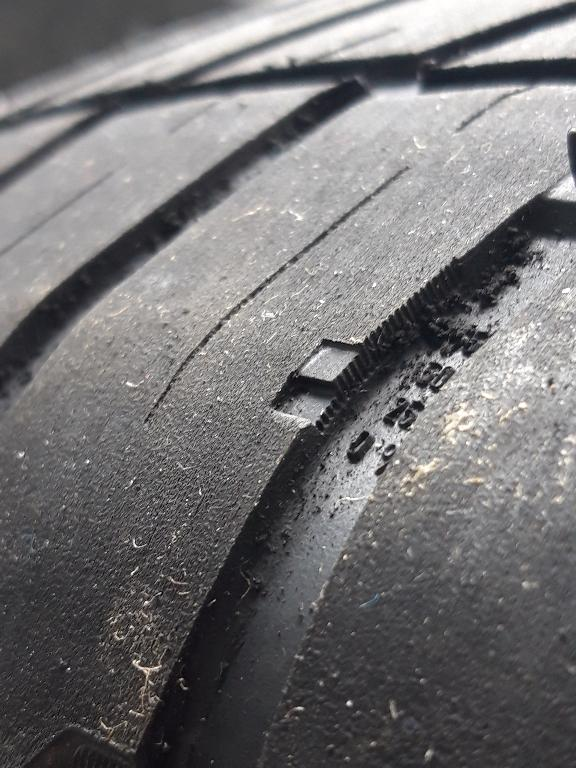temoin:25: (260, 314, 396, 458)
